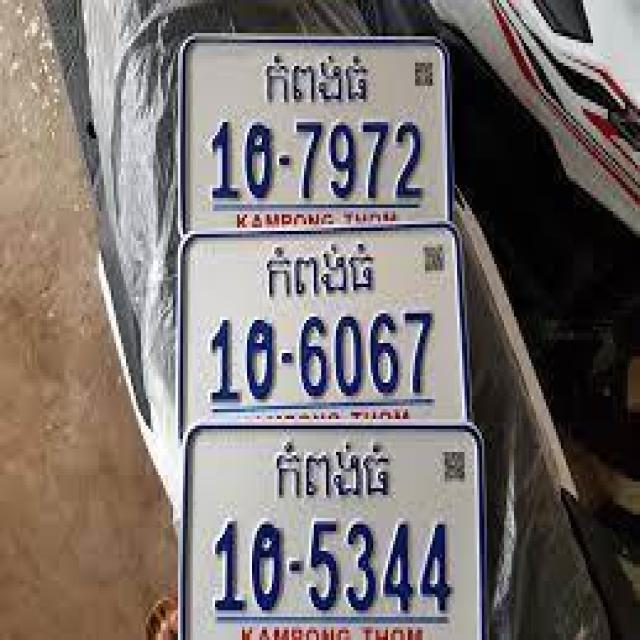Kampong_Thom: (269, 436, 394, 502), (262, 238, 375, 299), (264, 49, 371, 110)
